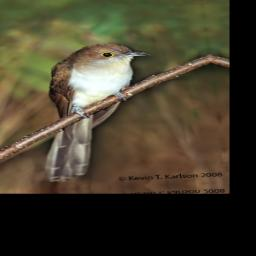Cuckoo: (24, 41, 168, 182)
